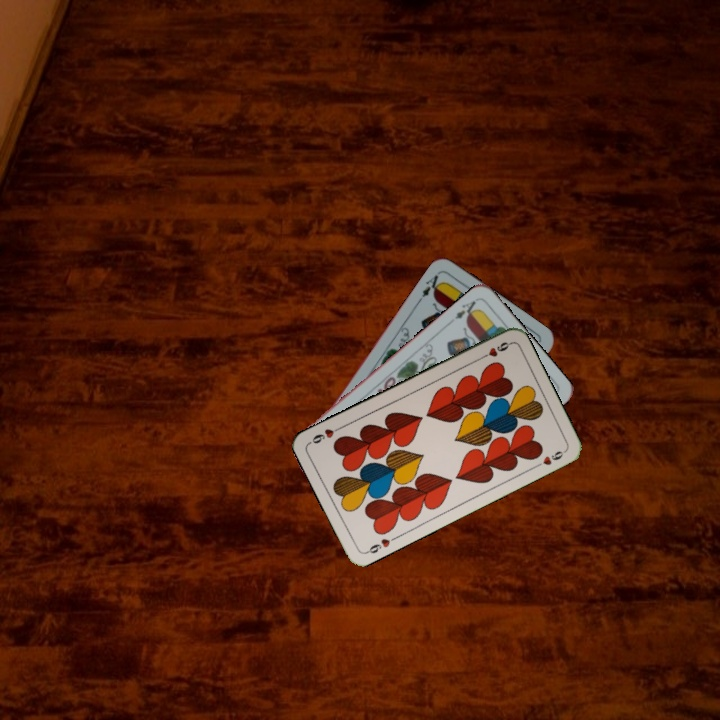EA: (415, 268, 445, 304), (450, 295, 482, 322)
H9: (475, 338, 513, 362), (362, 532, 399, 556)
